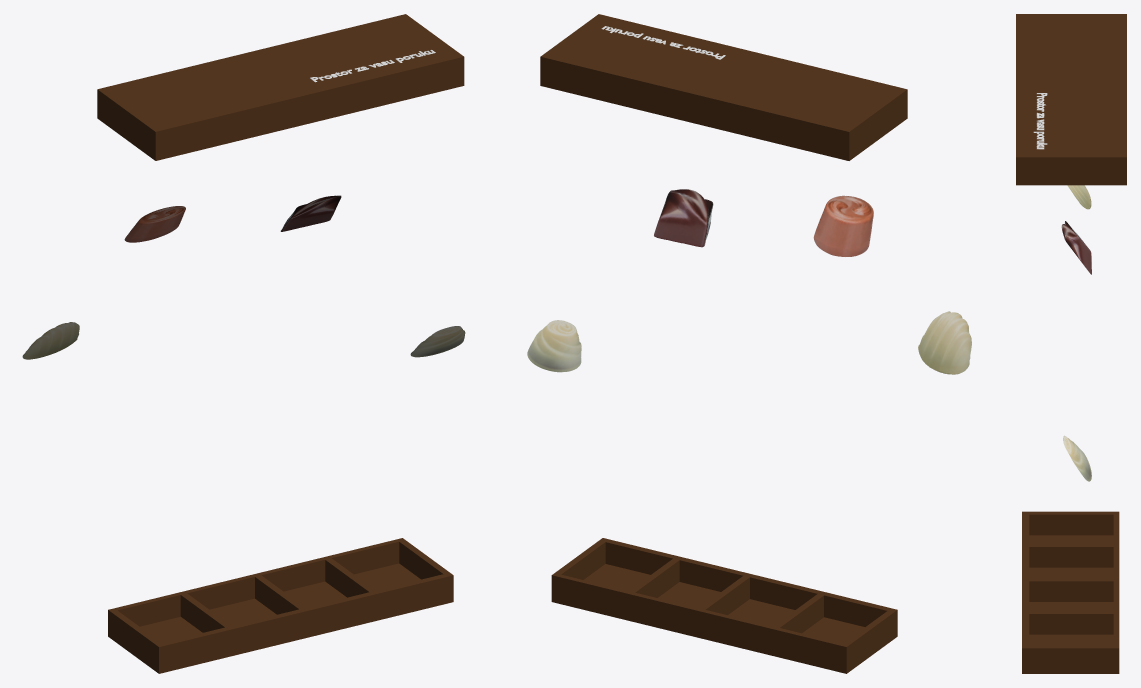
The model's file is aurora3.9903765f.glb.
3 renders of one model, left to right at view 1: azimuth 30°, elevation 25°; view 2: azimuth 150°, elevation 25°; view 3: azimuth 270°, elevation 25°, orthographic. The views are drawn at different scales.
Parts seen in each view (by area): view 1: Cube.001, Cube, Plane.002, Plane.003, Plane.001, Plane; view 2: Cube.001, Cube, Plane.002, Plane.003, Plane.001, Plane; view 3: Cube.001, Cube, Plane.001, Plane, Text, Plane.003.
Boxes of the visible parts, x1=… form: Cube.001: x1=97, y1=14, x2=464, y2=160; Cube: x1=108, y1=538, x2=453, y2=673; Plane.002: x1=124, y1=206, x2=185, y2=242; Plane.003: x1=22, y1=322, x2=79, y2=359; Plane.001: x1=280, y1=195, x2=341, y2=231; Plane: x1=410, y1=326, x2=465, y2=357; Cube.001: x1=540, y1=14, x2=907, y2=160; Cube: x1=551, y1=538, x2=897, y2=673; Plane.002: x1=813, y1=195, x2=873, y2=256; Plane.003: x1=918, y1=311, x2=971, y2=374; Plane.001: x1=654, y1=189, x2=713, y2=247; Plane: x1=527, y1=320, x2=581, y2=372; Cube.001: x1=1016, y1=14, x2=1126, y2=185; Cube: x1=1022, y1=511, x2=1119, y2=673; Plane.001: x1=1061, y1=221, x2=1091, y2=274; Plane: x1=1063, y1=435, x2=1091, y2=481; Text: x1=1033, y1=93, x2=1047, y2=149; Plane.003: x1=1067, y1=185, x2=1091, y2=209.
Bounding box in the file's own units: 35.26 × 40.78 × 7.88.
5 materials, 4 textured.
